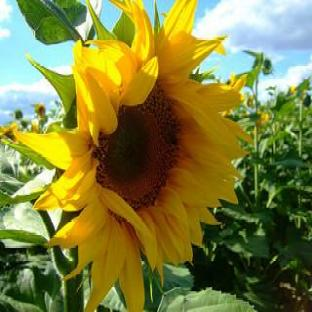sunflower: (2, 0, 254, 312)
